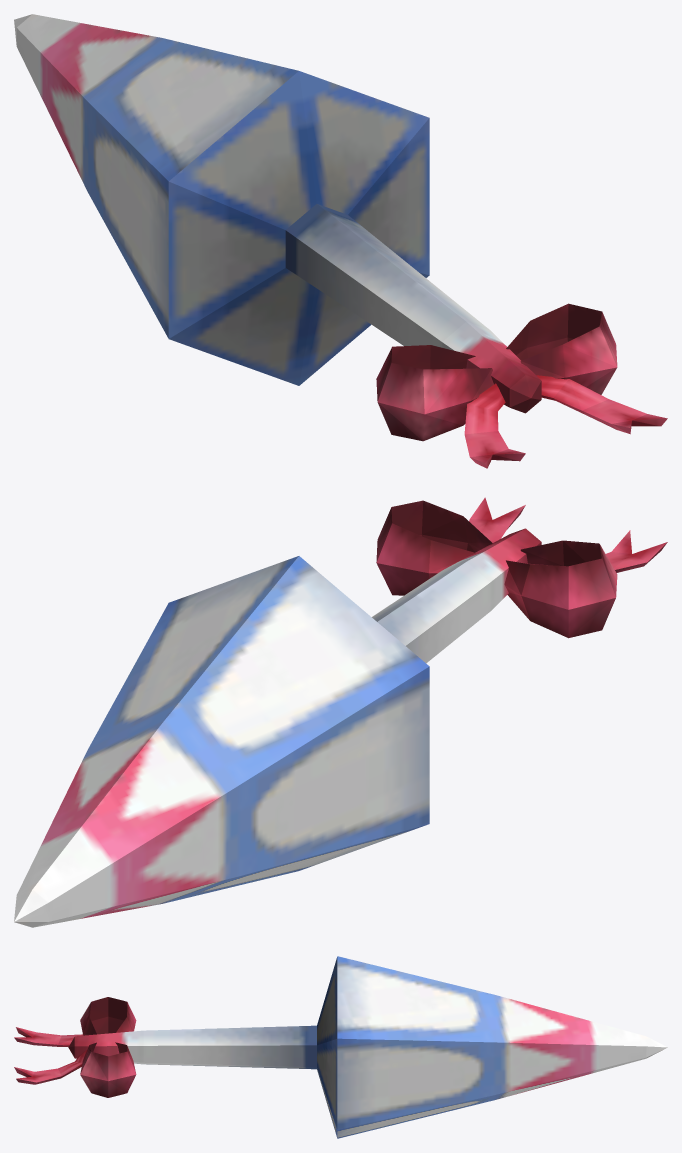
Rendered from Cat_bdWeapon.obj.
3 renders of one model, top to bottom at view 1: azimuth 30°, elevation 25°; view 2: azimuth 150°, elevation 25°; view 3: azimuth 270°, elevation 25°, orthographic. The views are drawn at different scales.
Parts seen in each view (by area): view 1: Cat_bdWeapon_tri; view 2: Cat_bdWeapon_tri; view 3: Cat_bdWeapon_tri.
Boxes of the visible parts, x1,y1,x2,y2 form: Cat_bdWeapon_tri: (14,14,667,468); Cat_bdWeapon_tri: (14,497,667,927); Cat_bdWeapon_tri: (14,956,667,1138).
Bounding box in the file's own units: 0.1622 × 0.1873 × 0.6073.
Materials: 1 (1 with a texture image).
